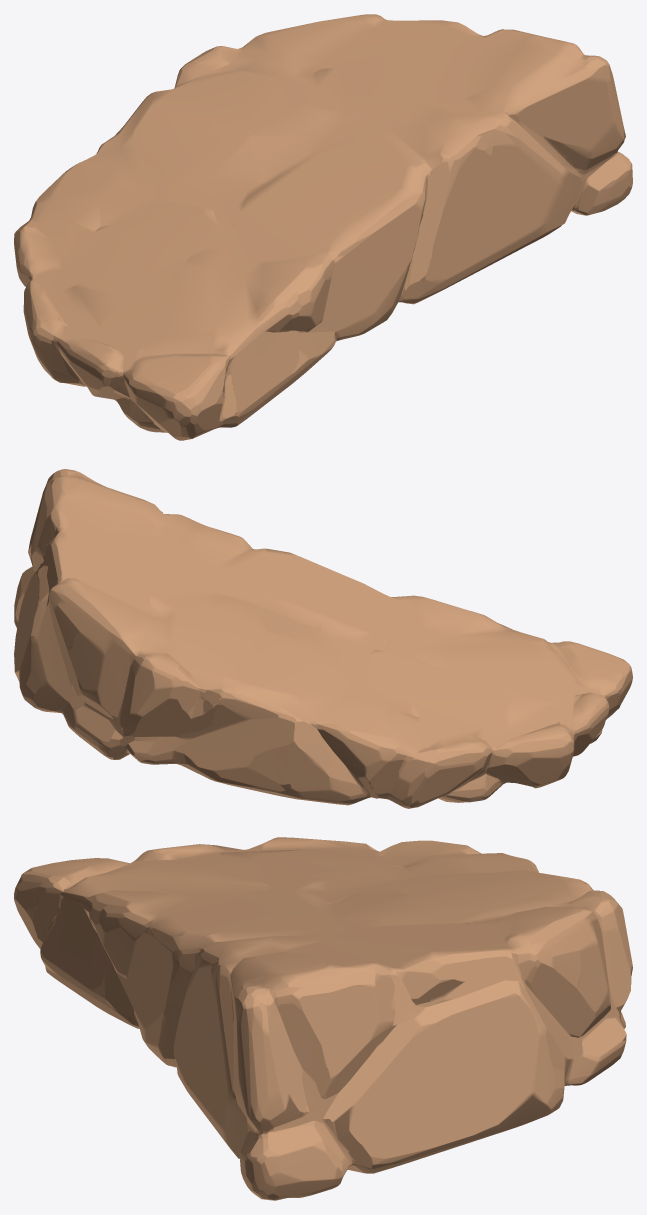
The picture shows the model from 3 angles, top to bottom: view 1: azimuth 30°, elevation 25°; view 2: azimuth 150°, elevation 25°; view 3: azimuth 270°, elevation 25°; orthographic projection. The views are drawn at different scales.
Parts seen in each view (by area): view 1: Mesh_7_LOD0; view 2: Mesh_7_LOD0; view 3: Mesh_7_LOD0.
Part boxes in pixels (<box>): Mesh_7_LOD0: <box>14,14,632,440</box>; Mesh_7_LOD0: <box>14,469,632,808</box>; Mesh_7_LOD0: <box>14,837,632,1200</box>.
Size of what is drawn, in the model's own units: 3629 by 1255 by 2671.
